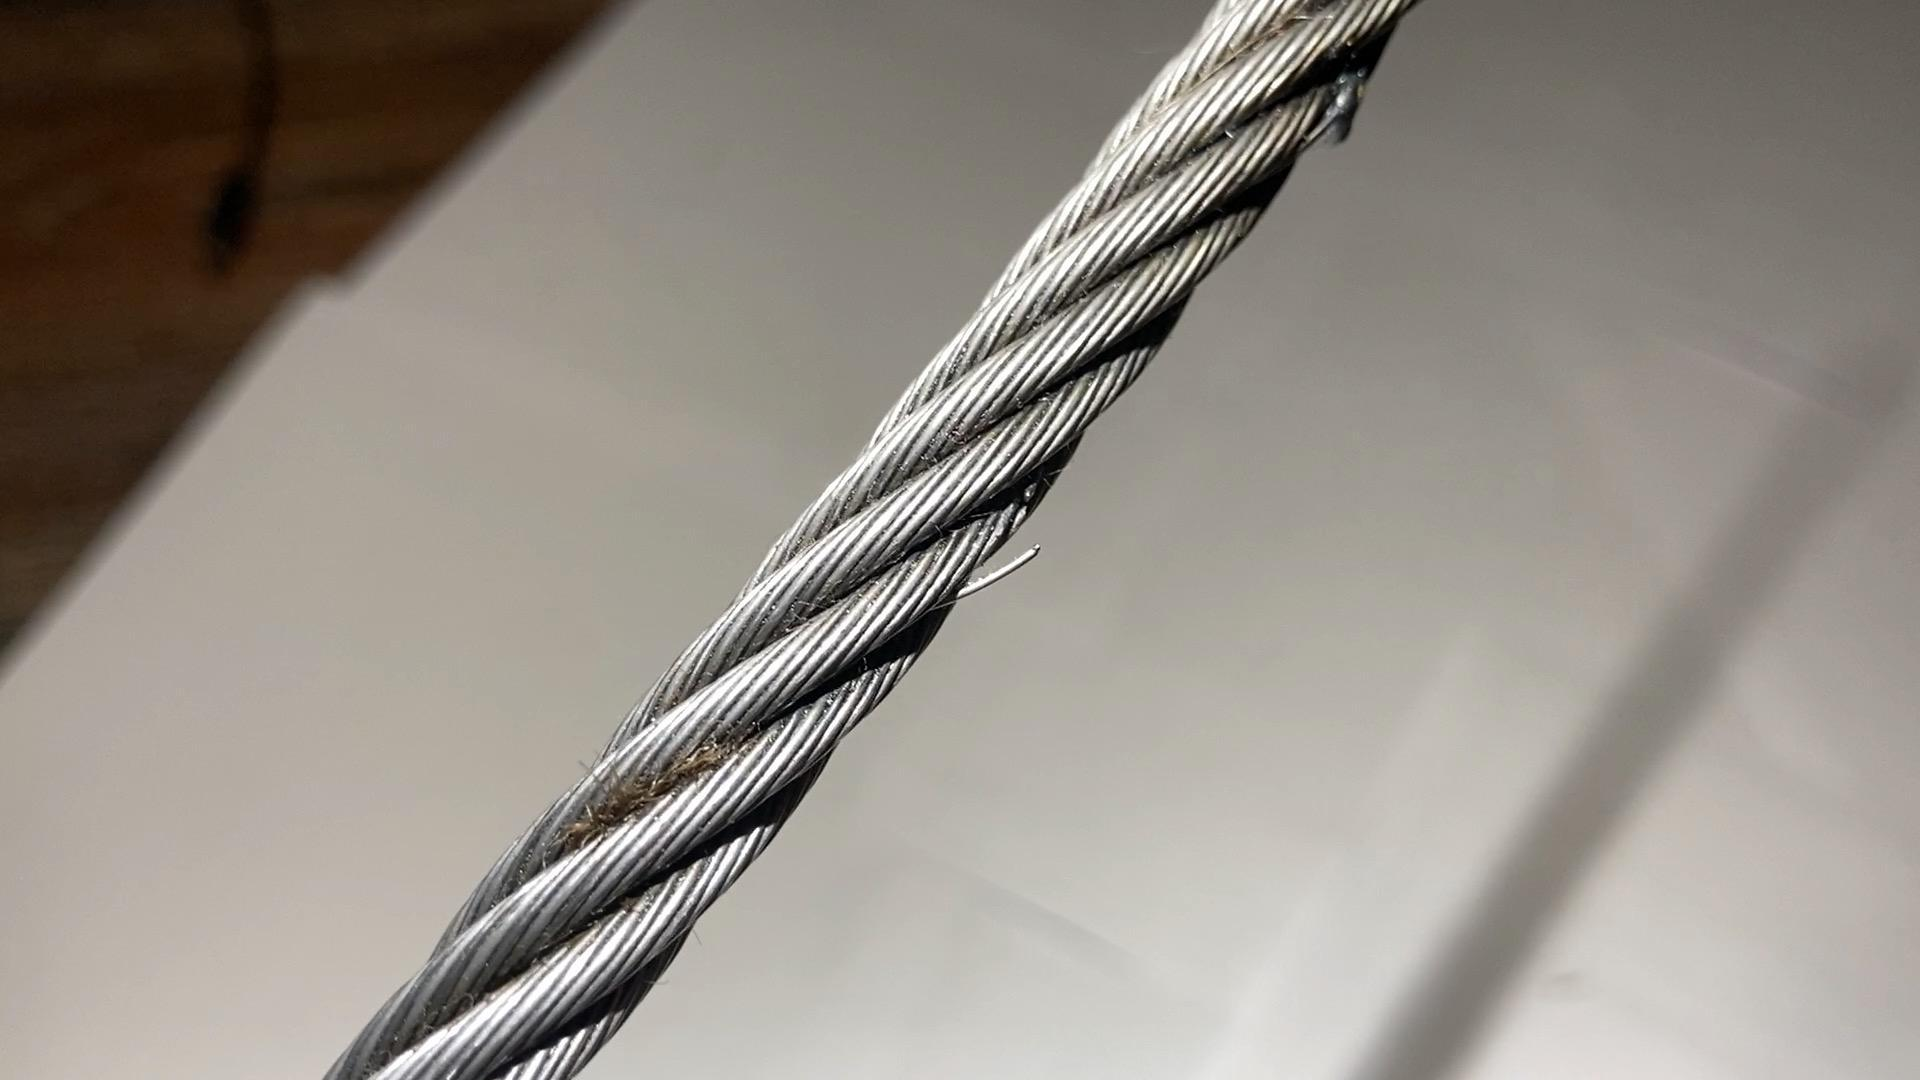break: (942, 541, 1047, 607)
